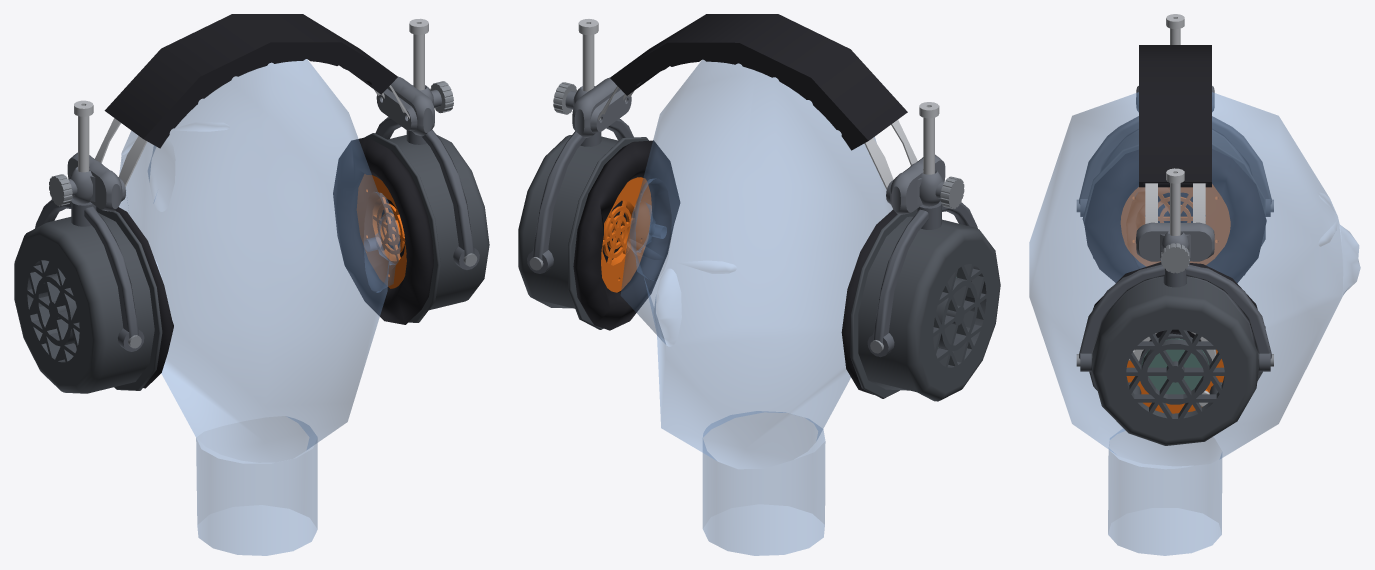
The model's file is daily-driver-s.glb.
3 views of the same model, side by side, from view 1: azimuth 30°, elevation 25°; view 2: azimuth 150°, elevation 25°; view 3: azimuth 270°, elevation 25° (orthographic). The views are drawn at different scales.
Visible parts, largest first — view 1: head_ref, cup_L, headband_pad, earpad_R, cup_R, baffle_R, yoke_L, yoke_R, slider_L, earpad_L, slider_R, bow_ref (+4 smaller); view 2: head_ref, cup_L, headband_pad, earpad_R, cup_R, baffle_R, yoke_L, yoke_R, slider_L, earpad_L, slider_R, bow_ref (+4 smaller); view 3: head_ref, cup_R, headband_pad, earpad_L, yoke_R, baffle_L, yoke_L, slider_R, cup_L, damping_R, bow_ref, yoke_rod_R (+3 smaller).
Part boxes in pixels (box(x1,y1,x2,y2)): head_ref: box(119, 59, 400, 555); cup_L: box(14, 206, 162, 393); headband_pad: box(104, 14, 397, 148); earpad_R: box(333, 137, 433, 324); cup_R: box(365, 133, 489, 322); baffle_R: box(356, 174, 406, 288); yoke_L: box(35, 198, 144, 351); yoke_R: box(375, 117, 479, 269); slider_L: box(67, 152, 122, 211); earpad_L: box(115, 207, 173, 388); slider_R: box(387, 76, 441, 136); bow_ref: box(95, 85, 409, 187); head_ref: box(620, 59, 892, 555); cup_L: box(850, 209, 1000, 401); headband_pad: box(610, 14, 907, 150); earpad_R: box(573, 140, 680, 330); cup_R: box(518, 135, 648, 329); baffle_R: box(601, 177, 651, 292); yoke_L: box(867, 200, 977, 357); yoke_R: box(527, 118, 633, 273); slider_L: box(890, 154, 945, 214); earpad_L: box(841, 209, 897, 394); slider_R: box(565, 77, 620, 137); bow_ref: box(598, 86, 917, 189); head_ref: box(1029, 92, 1360, 555); cup_R: box(1089, 264, 1265, 445); headband_pad: box(1139, 45, 1211, 187); earpad_L: box(1084, 149, 1266, 282); yoke_R: box(1079, 264, 1271, 371); baffle_L: box(1120, 184, 1230, 266); yoke_L: box(1079, 116, 1271, 216); slider_R: box(1136, 222, 1214, 261); cup_L: box(1082, 131, 1265, 275); damping_R: box(1141, 338, 1209, 394); bow_ref: box(1145, 183, 1205, 223); yoke_rod_R: box(1166, 168, 1184, 235).
Size of the model in its own units: 236 by 284 by 181.
